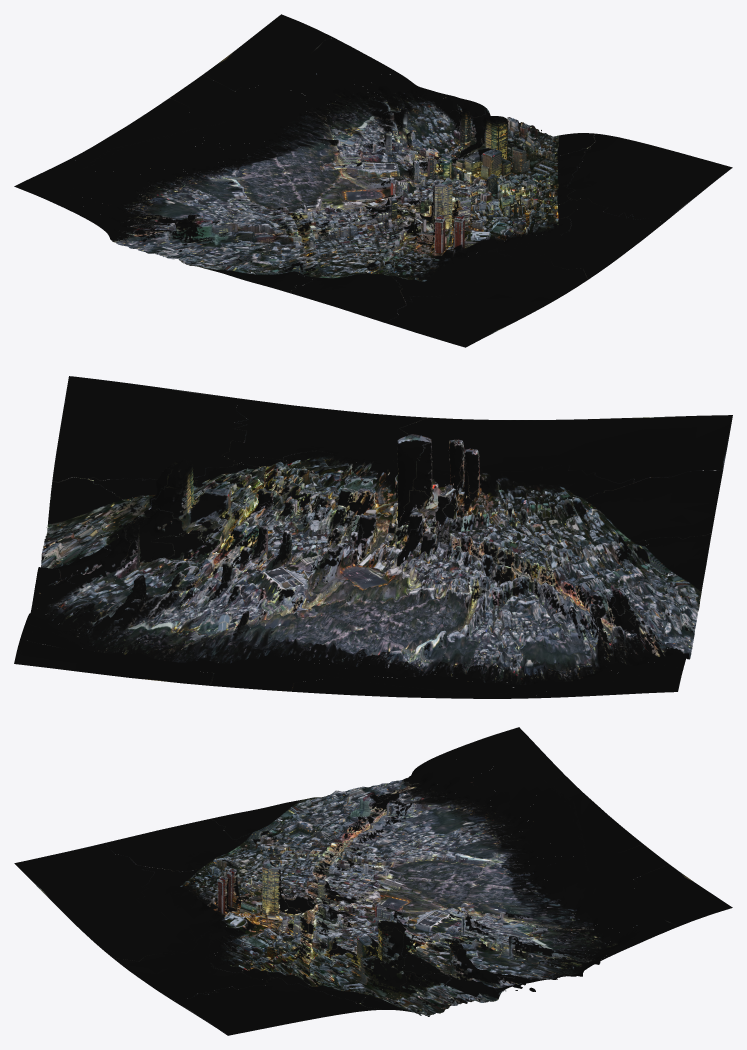
Rendered from night_city_japan.glb.
The picture shows the model from 3 angles, top to bottom: view 1: azimuth 30°, elevation 25°; view 2: azimuth 150°, elevation 25°; view 3: azimuth 270°, elevation 25°; orthographic projection. The views are drawn at different scales.
Visible parts, largest first — view 1: Object_11, Object_7, Object_2; view 2: Object_11, Object_2, Object_7; view 3: Object_11, Object_7, Object_2.
Boxes of the visible parts, left/top/right/bottom form: Object_11: left=71, top=14, right=664, bottom=347; Object_7: left=14, top=38, right=595, bottom=322; Object_2: left=116, top=74, right=732, bottom=293; Object_11: left=14, top=398, right=732, bottom=698; Object_2: left=29, top=376, right=711, bottom=683; Object_7: left=20, top=439, right=722, bottom=698; Object_11: left=14, top=759, right=732, bottom=1004; Object_7: left=104, top=727, right=675, bottom=1016; Object_2: left=174, top=778, right=621, bottom=1035.
Bounding box in the file's own units: 8834 × 866 × 9260.
Materials: 3 (3 with a texture image).
